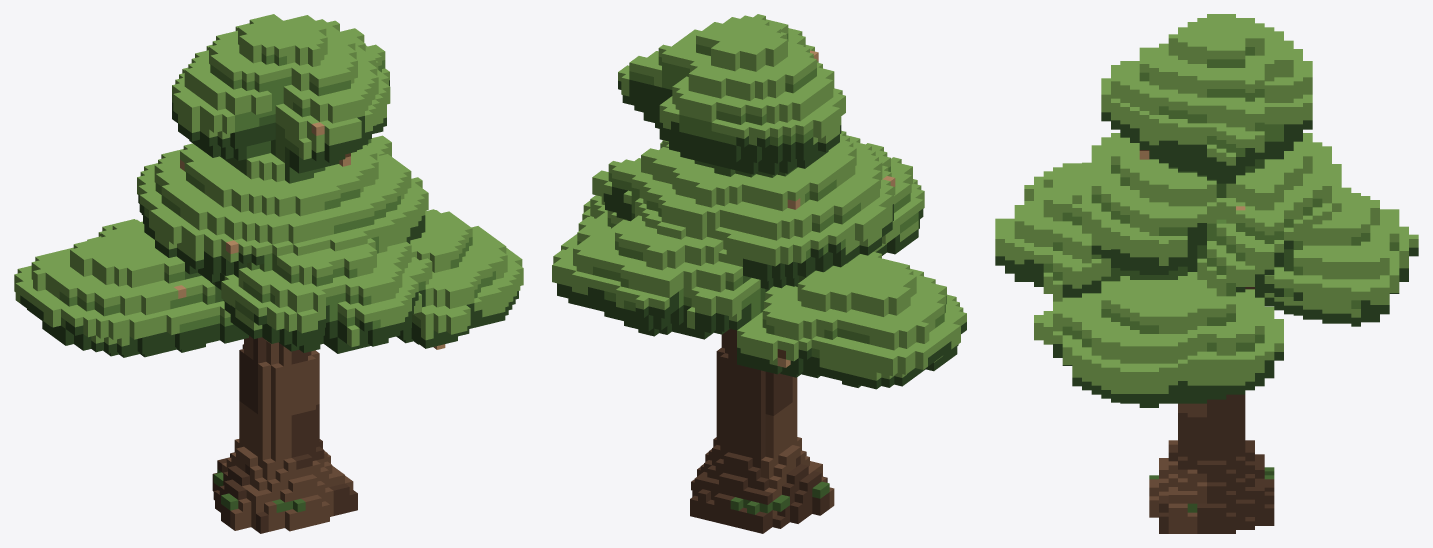
Rendered from Mountain_Oak_v5.fbx.
The picture shows the model from 3 angles, left to right: view 1: azimuth 30°, elevation 25°; view 2: azimuth 150°, elevation 25°; view 3: azimuth 270°, elevation 25°; orthographic projection. The views are drawn at different scales.
Parts seen in each view (by area): view 1: Mountain_Oak_v5; view 2: Mountain_Oak_v5; view 3: Mountain_Oak_v5.
Part boxes in pixels (x1,y1,x2,y2): Mountain_Oak_v5: (14,14,523,533); Mountain_Oak_v5: (552,14,966,533); Mountain_Oak_v5: (995,14,1418,533).
Size of the model in its own units: 3.4 by 3.67 by 2.93.
Materials: 1 (1 with a texture image).
